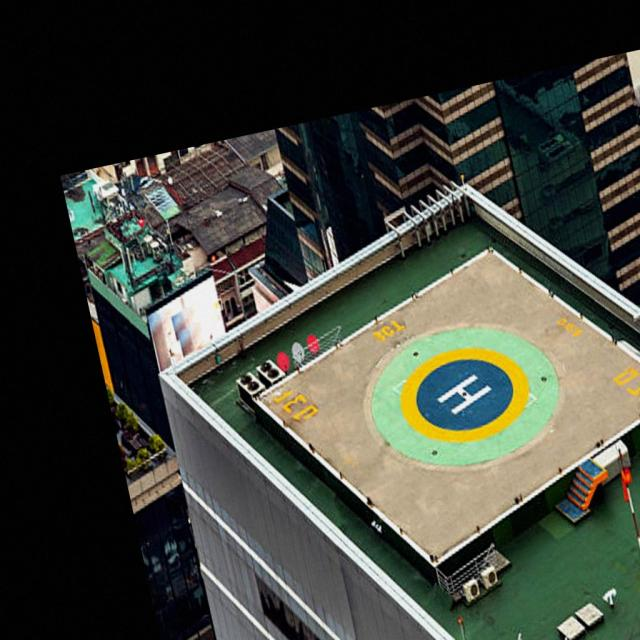helipad: (393, 343, 532, 446)
